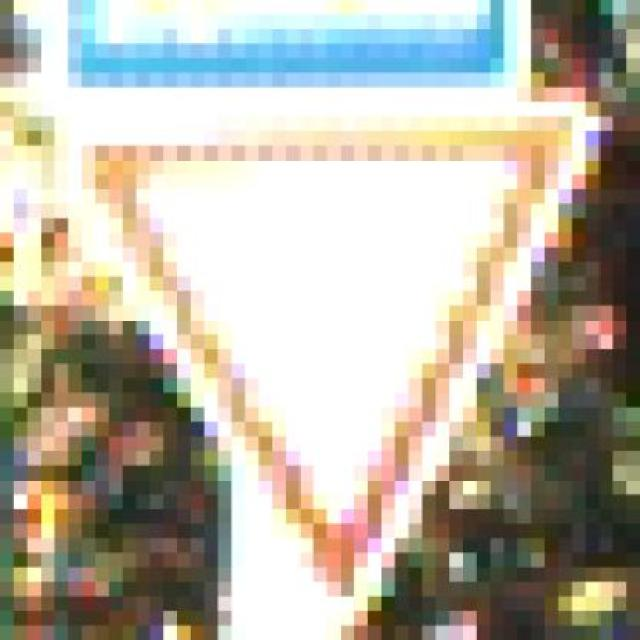Give Way: (48, 106, 606, 614)
